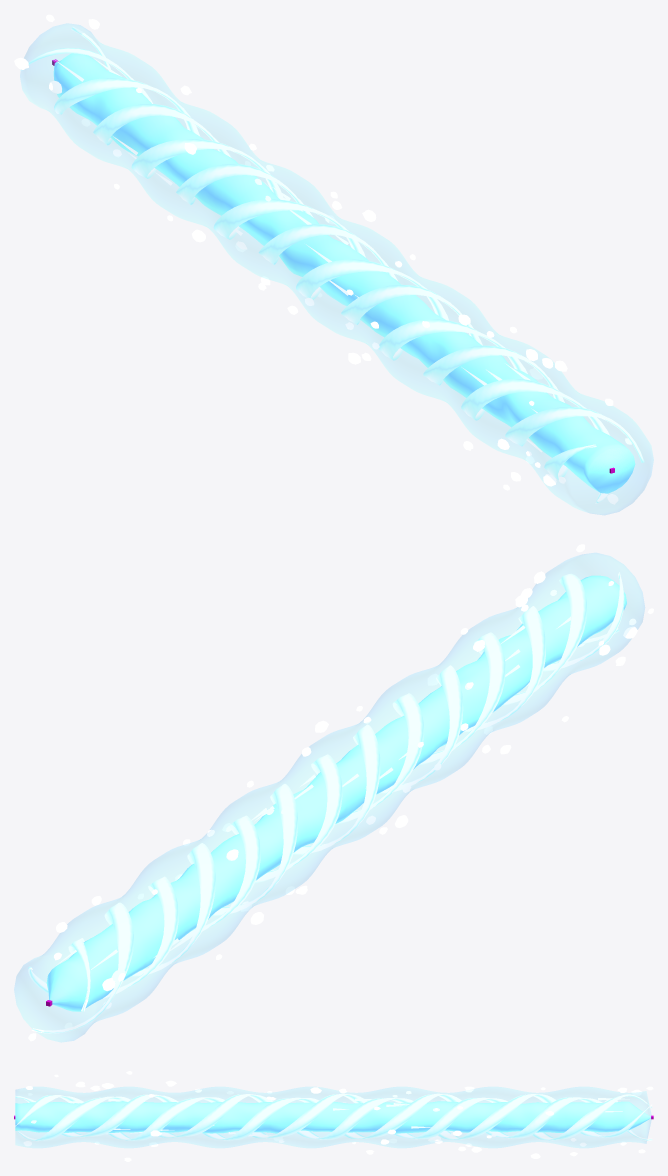
The model's file is WaterBeam.fbx.
The picture shows the model from 3 angles, top to bottom: view 1: azimuth 30°, elevation 25°; view 2: azimuth 150°, elevation 25°; view 3: azimuth 270°, elevation 25°; orthographic projection. The views are drawn at different scales.
Parts seen in each view (by area): view 1: Sheath.001, Core.007, Spiral, Foam; view 2: Sheath.001, Core.007, Spiral, Foam; view 3: Sheath.001, Core.007, Spiral, Foam.
Boxes of the visible parts, x1,y1,x2,y2 form: Sheath.001: (20,23,653,514); Core.007: (53,53,635,493); Spiral: (20,26,644,503); Foam: (14,14,631,504); Sheath.001: (14,553,644,1042); Core.007: (46,575,626,1011); Spiral: (28,572,624,1033); Foam: (28,544,653,1041); Sheath.001: (15,1087,651,1147); Core.007: (15,1101,650,1133); Spiral: (15,1093,652,1141); Foam: (23,1071,653,1161).
Bounding box in the file's own units: 3.19 × 3.32 × 24.12.
